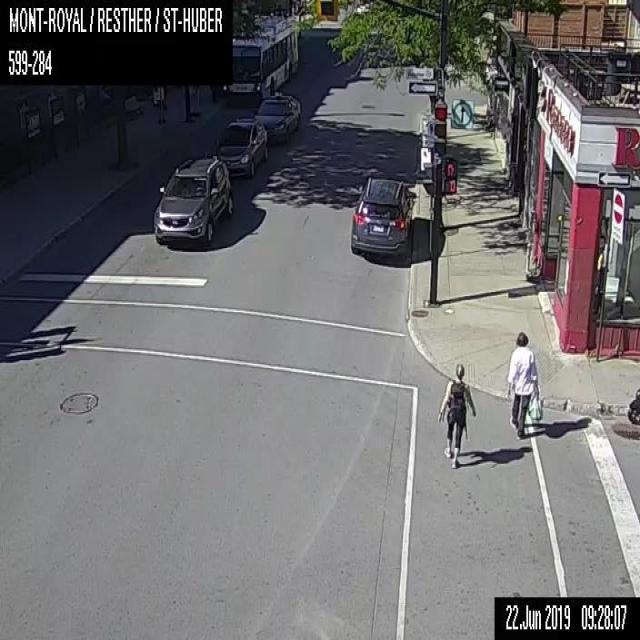bus: (220, 16, 298, 99)
pedestrian: (436, 363, 475, 468), (505, 331, 542, 437)
vehicle: (152, 156, 232, 246), (350, 177, 416, 255), (205, 118, 267, 175), (254, 92, 300, 139)
